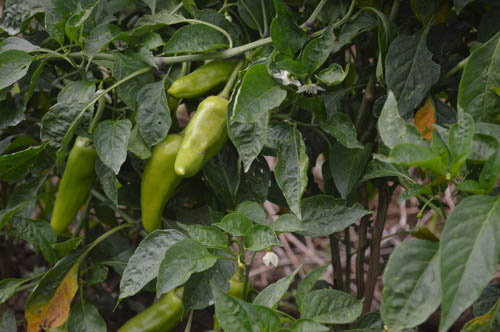ChiliPepper: (50, 136, 100, 234), (177, 97, 233, 178), (141, 133, 182, 234), (167, 56, 261, 95), (117, 292, 188, 330)
